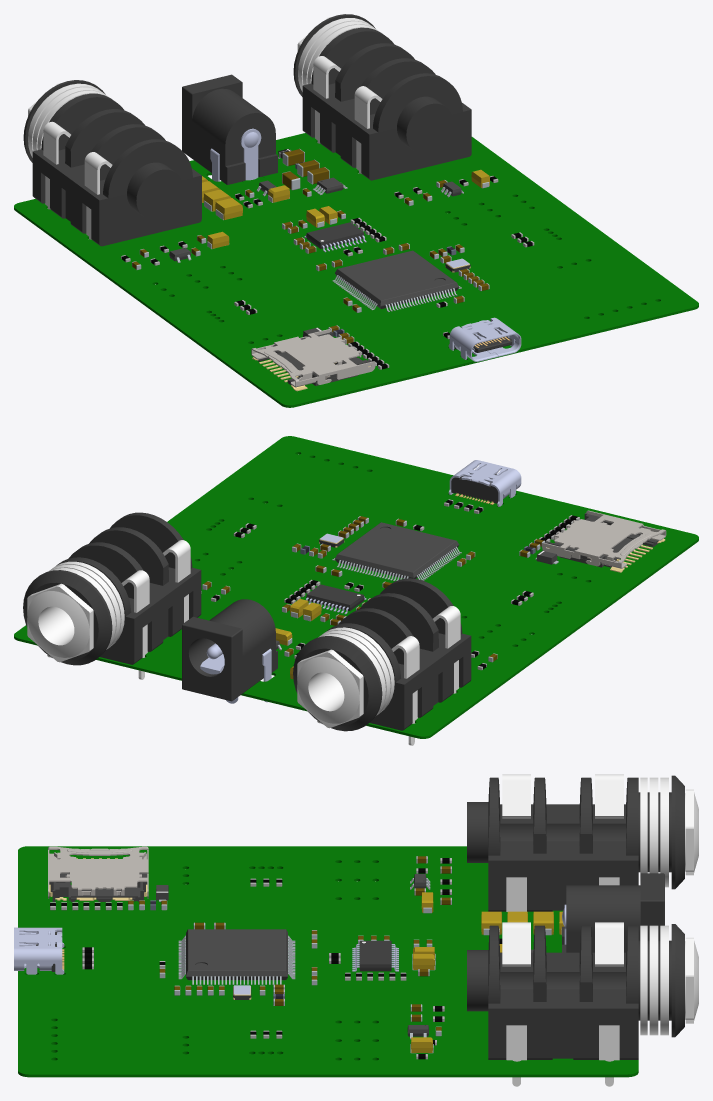
Rendered from Protone.gltf.
3 renders of one model, top to bottom at view 1: azimuth 30°, elevation 25°; view 2: azimuth 150°, elevation 25°; view 3: azimuth 270°, elevation 25°, orthographic. The views are drawn at different scales.
Parts seen in each view (by area): view 1: PCB, =>[0:1:1:2]; view 2: PCB, =>[0:1:1:2]; view 3: PCB, =>[0:1:1:2], =>[0:1:1:4], =>[0:1:1:3].
Part boxes in pixels (box(x1,y1,x2,y2)): PCB: box(14, 14, 698, 407); =>[0:1:1:2]: box(335, 250, 459, 308); PCB: box(14, 436, 698, 745); =>[0:1:1:2]: box(335, 522, 459, 578); PCB: box(14, 774, 698, 1086); =>[0:1:1:2]: box(186, 929, 287, 980); =>[0:1:1:4]: box(178, 935, 295, 979); =>[0:1:1:3]: box(192, 976, 281, 984).
Bounding box in the file's own units: 0.074 × 0.0202 × 0.0938.
